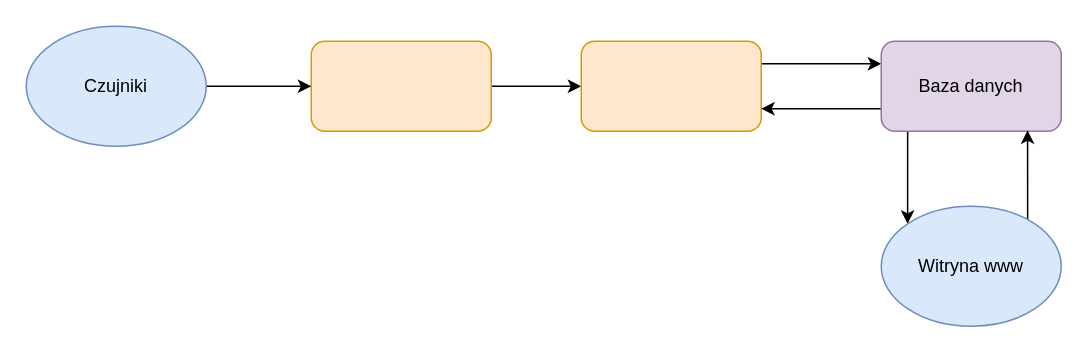
Image size: 1088x353. Some labels were removed from this diagram. Here are the shapes that lost their labels. From the top down, the centre of each, then its label:
point 400,85: Sterownik Arduino Mega 2560
point 670,85: Komputer PC
